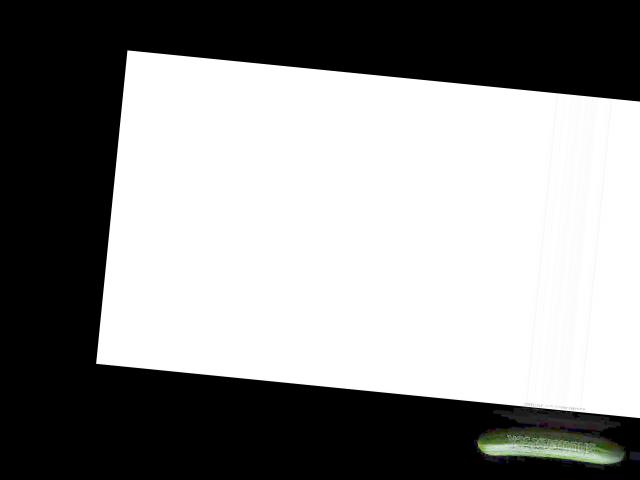cucumber: (475, 430, 623, 467)
